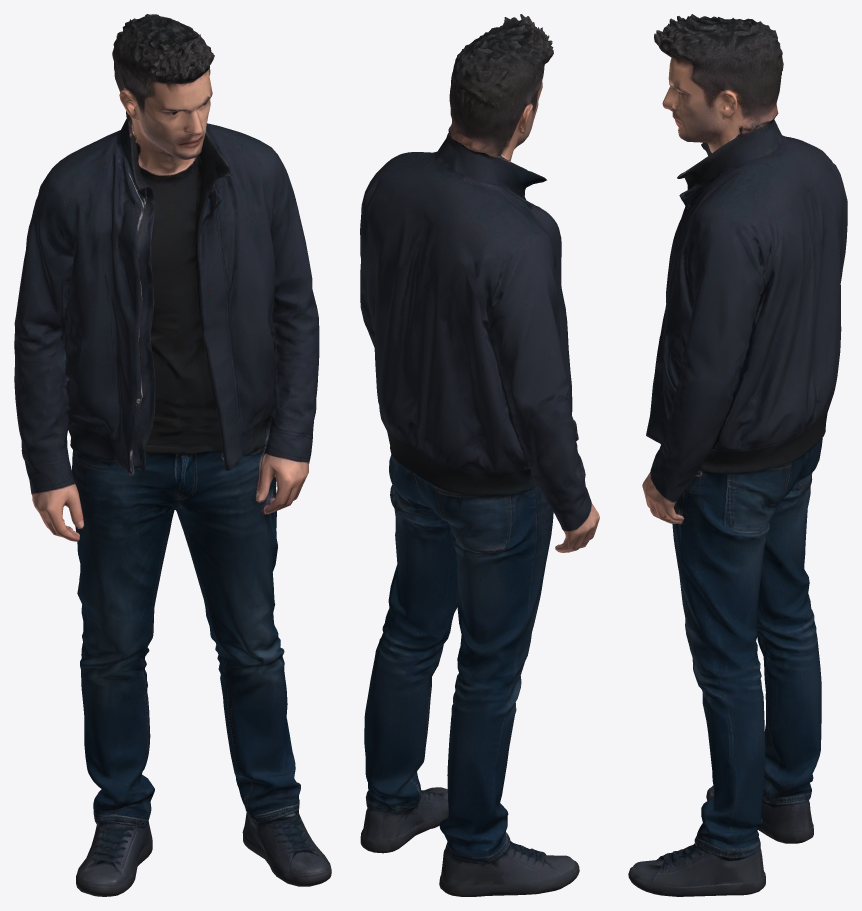
File: navy_jacket.glb
The picture shows the model from 3 angles, left to right: view 1: azimuth 30°, elevation 25°; view 2: azimuth 150°, elevation 25°; view 3: azimuth 270°, elevation 25°; orthographic projection. The views are drawn at different scales.
Parts seen in each view (by area): view 1: Object_5; view 2: Object_5; view 3: Object_5.
Part boxes in pixels (left/top/right/bottom): Object_5: left=14, top=14, right=331, bottom=896; Object_5: left=360, top=14, right=599, bottom=896; Object_5: left=628, top=14, right=847, bottom=896.
Bounding box in the file's own units: 0.5901 × 1.9 × 0.461.
1 material, 1 textured.
